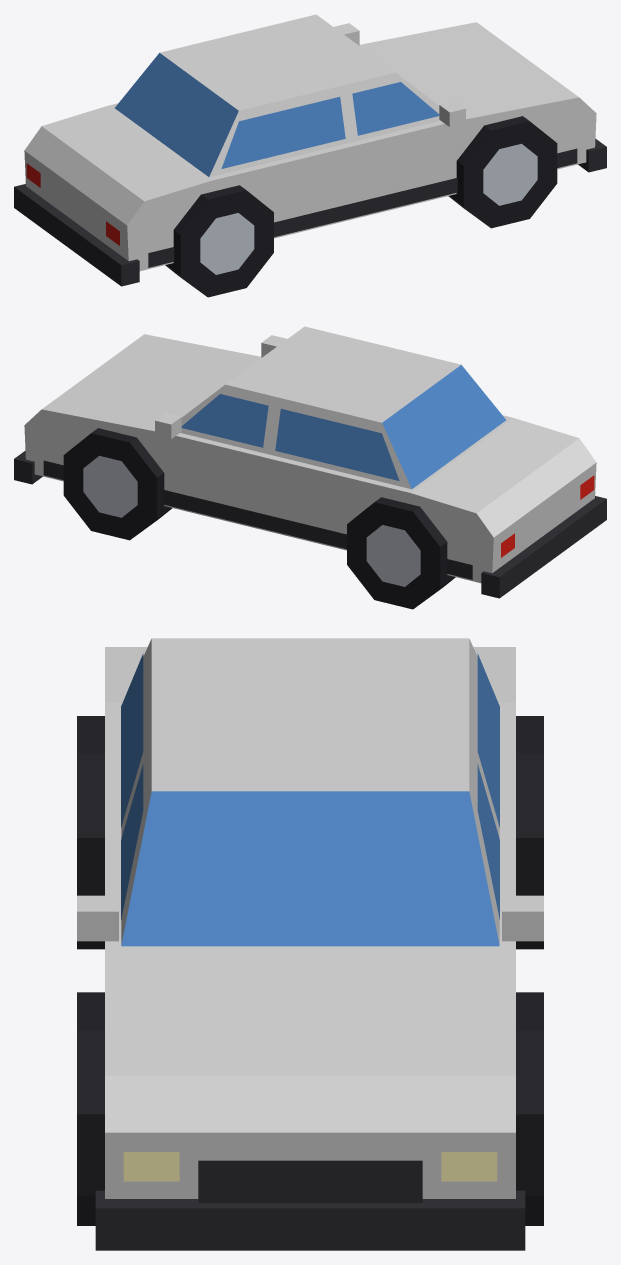
The model's file is car_a.glb.
3 views of the same model, one above another, from view 1: azimuth 30°, elevation 25°; view 2: azimuth 150°, elevation 25°; view 3: azimuth 270°, elevation 25° (orthographic). The views are drawn at different scales.
Visible parts, largest first — view 1: Body; view 2: Body; view 3: Body.
Part boxes in pixels (box(x1,y1,x2,y2)): Body: box(14, 14, 606, 297); Body: box(14, 326, 606, 609); Body: box(77, 638, 543, 1250).
Size of the model in its own units: 0.48 by 0.152 by 0.2.
